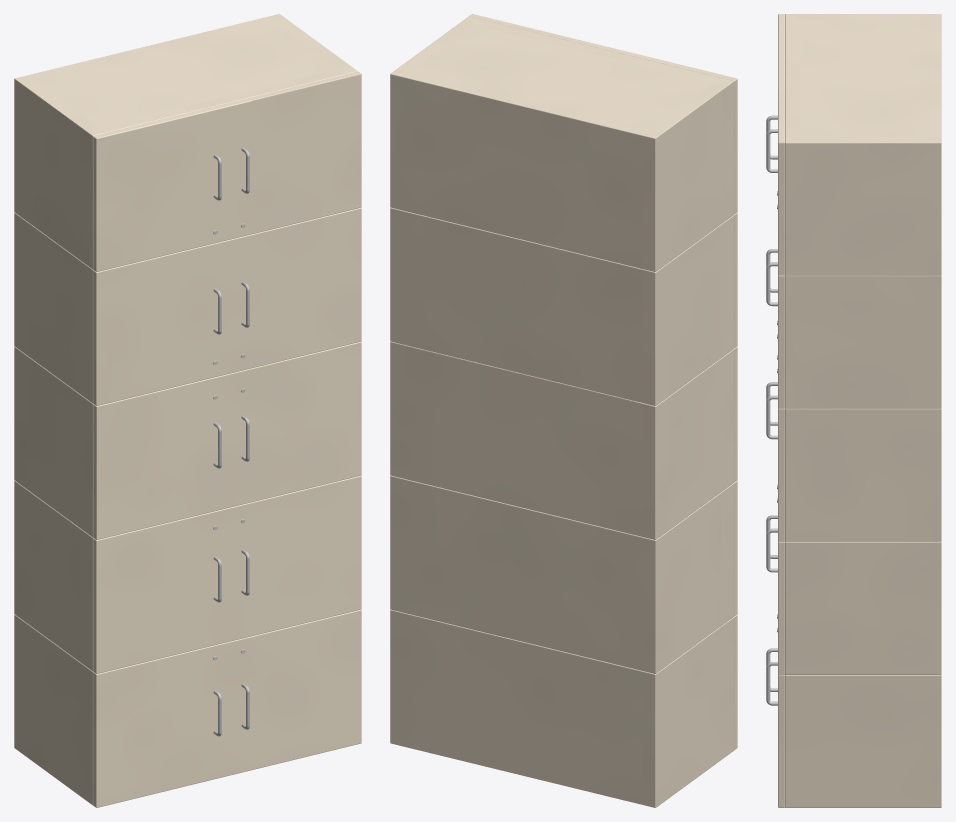
File: vrCabinet.fbx
The picture shows the model from 3 angles, left to right: view 1: azimuth 30°, elevation 25°; view 2: azimuth 150°, elevation 25°; view 3: azimuth 270°, elevation 25°; orthographic projection.
Parts seen in each view (by area): view 1: door, body, handle; view 2: body, door; view 3: body, door, handle.
Part boxes in pixels (x1,y1,x2,y2): door: (93, 71, 361, 807); body: (14, 14, 357, 805); handle: (213, 147, 249, 736); body: (390, 16, 734, 807); door: (469, 14, 737, 749); body: (785, 14, 941, 807); door: (778, 14, 784, 807); handle: (766, 115, 777, 705).
Bounding box in the file's own units: 0.8644 × 2.08 × 0.4969.
2 materials, 2 textured.
